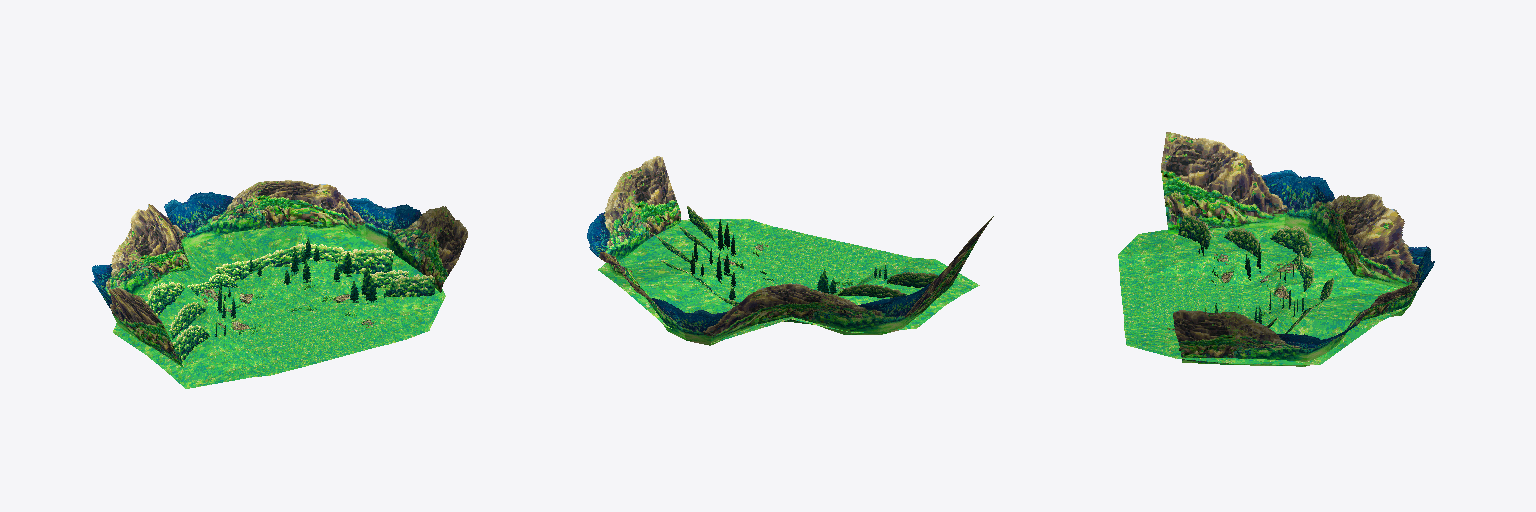
3 views of the same model, side by side, from view 1: azimuth 30°, elevation 25°; view 2: azimuth 150°, elevation 25°; view 3: azimuth 270°, elevation 25° (orthographic).
Visible parts, largest first — view 1: Plains(Night); view 2: Plains(Night); view 3: Plains(Night).
Part boxes in pixels (x1,y1,x2,y2): Plains(Night): (92, 180, 467, 388); Plains(Night): (587, 156, 993, 345); Plains(Night): (1118, 132, 1434, 366).
Size of the model in its own units: 37.71 by 9.74 by 30.43.
5 materials, 1 textured.